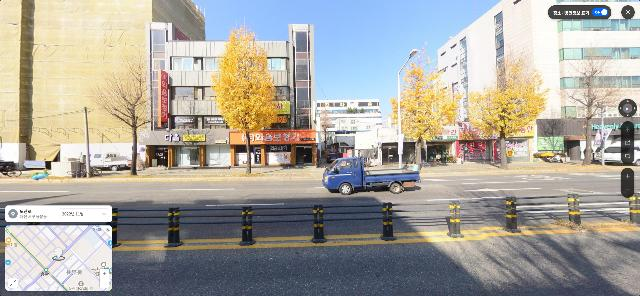ginkgo: (209, 21, 281, 174), (464, 50, 550, 167), (389, 46, 468, 171)
other: (90, 51, 176, 176), (555, 51, 625, 164), (317, 116, 342, 165)
